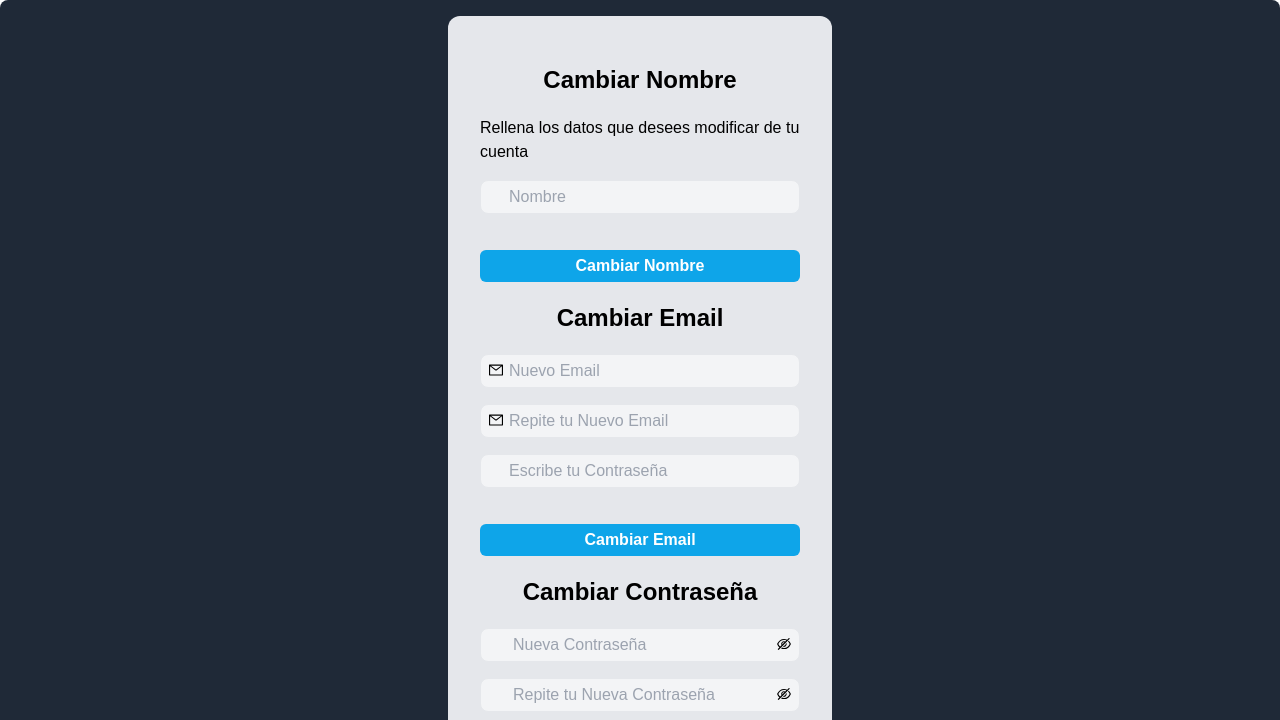
Success message is shown when users_put succeeds
Click the button "Cambiar Nombre" at {"x": 640, "y": 266}, box 480,250 -> 800,282
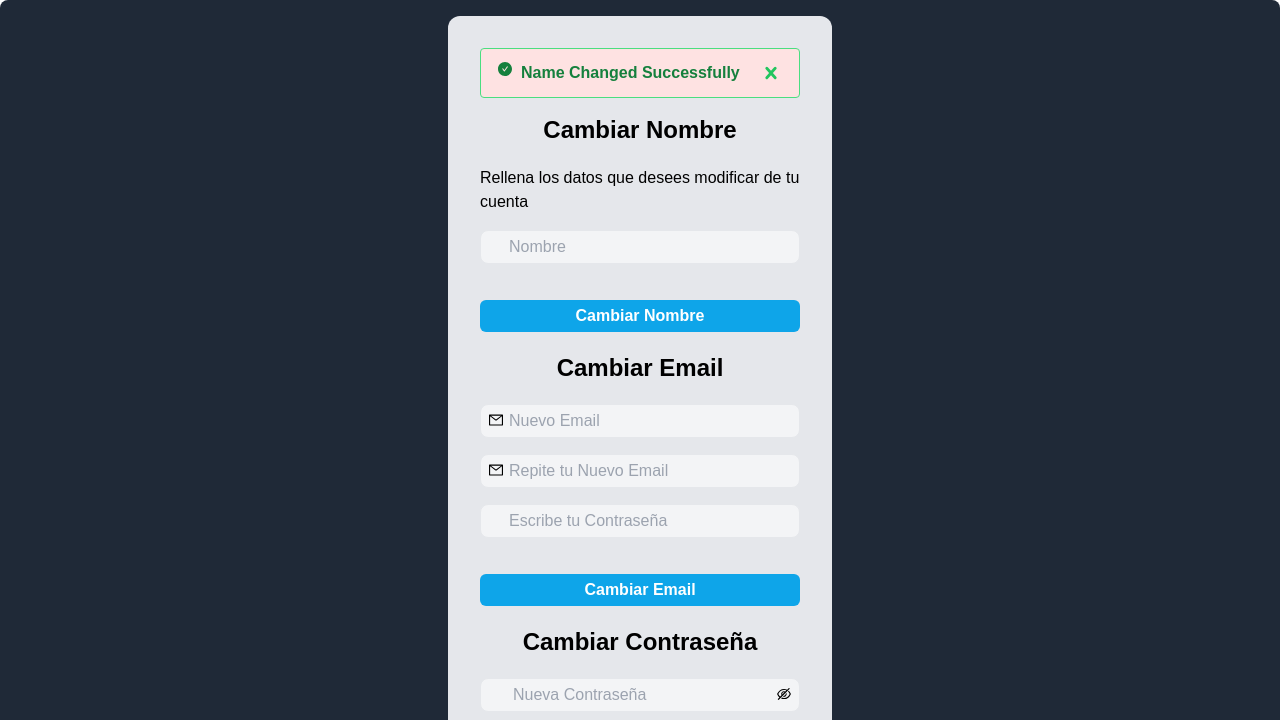
Expected: the text "Name Changed Successfully" is shown, 521,61 -> 740,85
